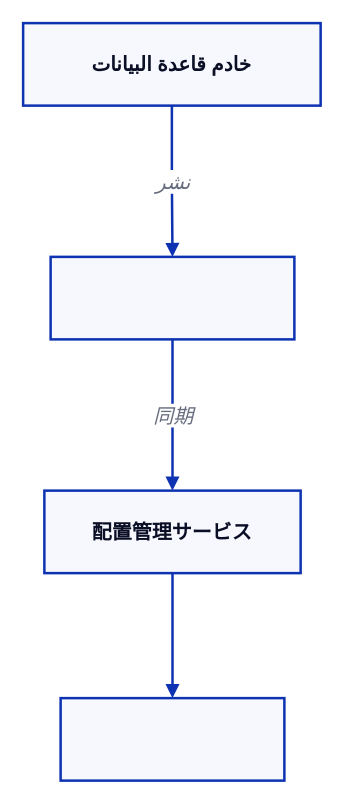
Some shapes in this 343 by 803 pixel diagram are drawn without their labels. Each missing label, with the box of its shape:
API خارجي · v2 🌍: (59, 696, 285, 781)
🚀 Deploy Service ✨: (49, 255, 295, 340)
